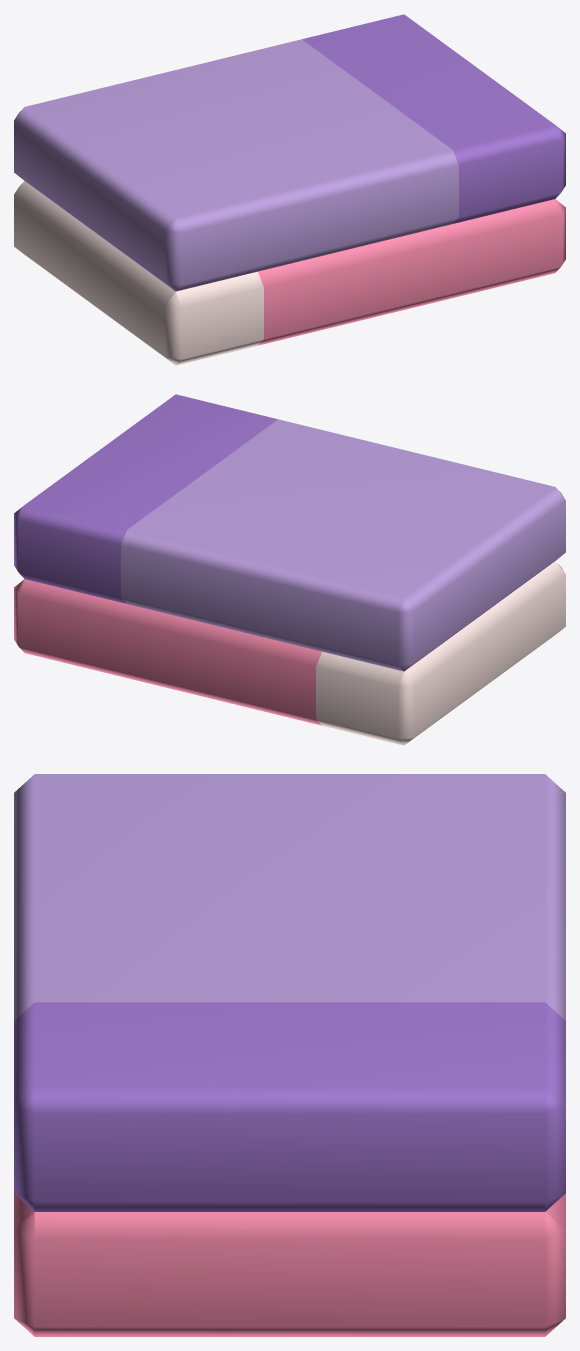
The model's file is Public_13_Towels_1.glb.
3 renders of one model, top to bottom at view 1: azimuth 30°, elevation 25°; view 2: azimuth 150°, elevation 25°; view 3: azimuth 270°, elevation 25°, orthographic. The views are drawn at different scales.
Parts seen in each view (by area): view 1: Public_13_Towels_1; view 2: Public_13_Towels_1; view 3: Public_13_Towels_1.
Part boxes in pixels (x1,y1,x2,y2): Public_13_Towels_1: (14,14,565,365); Public_13_Towels_1: (14,394,565,745); Public_13_Towels_1: (14,774,565,1336).
Bounding box in the file's own units: 1.19 × 0.4215 × 0.8432.
Materials: 1 (1 with a texture image).
